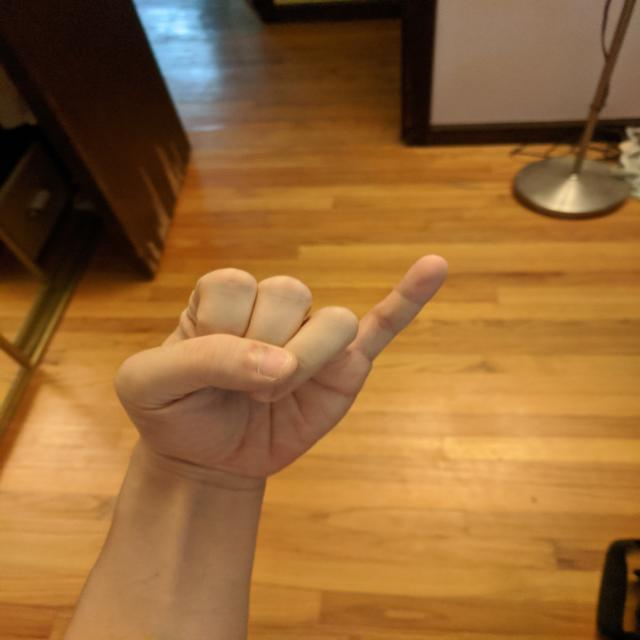I: (105, 249, 455, 488)
